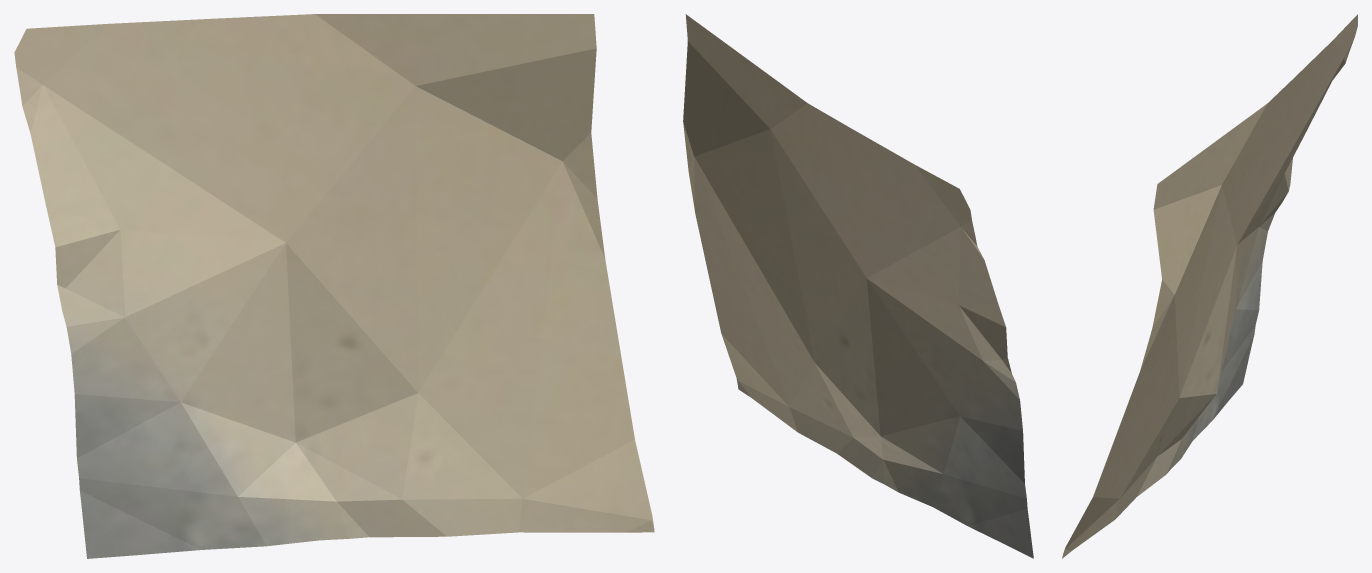
The picture shows the model from 3 angles, left to right: view 1: azimuth 30°, elevation 25°; view 2: azimuth 150°, elevation 25°; view 3: azimuth 270°, elevation 25°; orthographic projection. The views are drawn at different scales.
Bounding box in the file's own units: 0.8373 × 0.8374 × 0.5991.
Materials: 3 (3 with a texture image).
